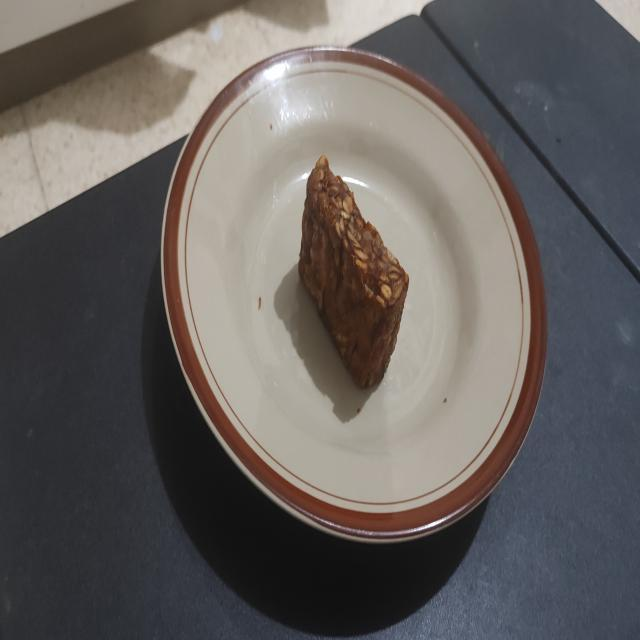tempe_goreng: (298, 156, 408, 388)
